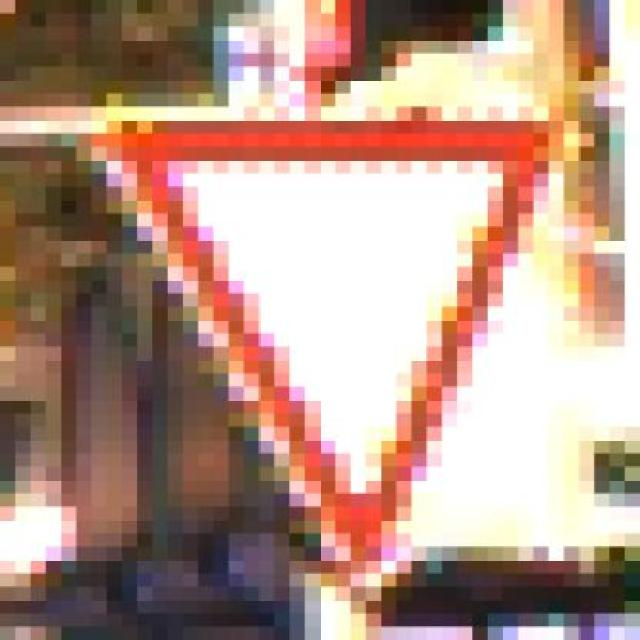Give Way: (76, 67, 579, 587)
